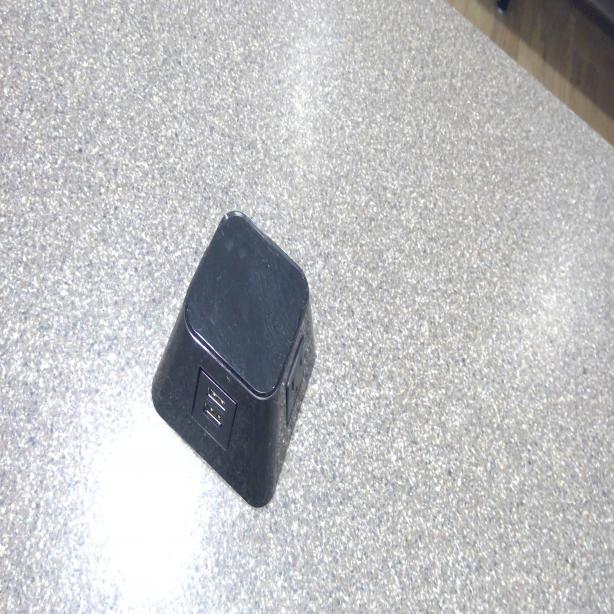typeb: (287, 354, 308, 401)
